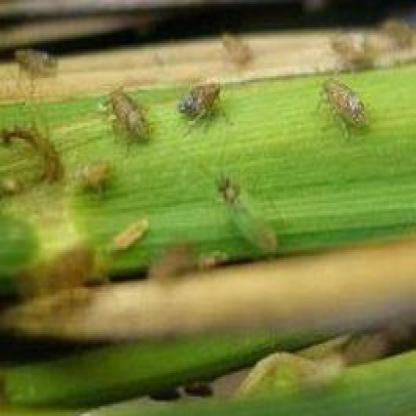brown-planthopper: (318, 74, 369, 130), (106, 90, 150, 146), (182, 80, 224, 120), (9, 47, 60, 78)
